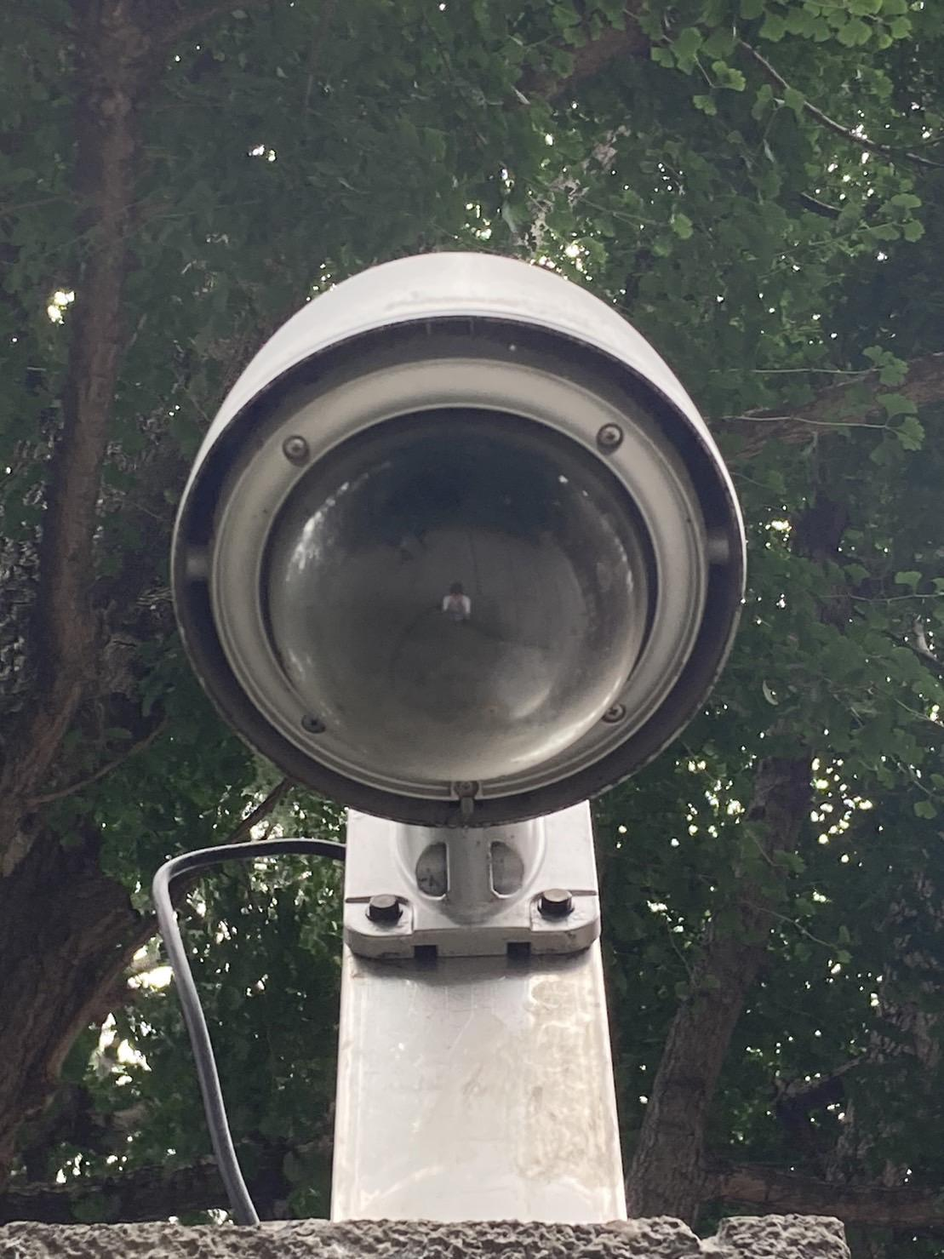maru: (170, 249, 773, 845)
